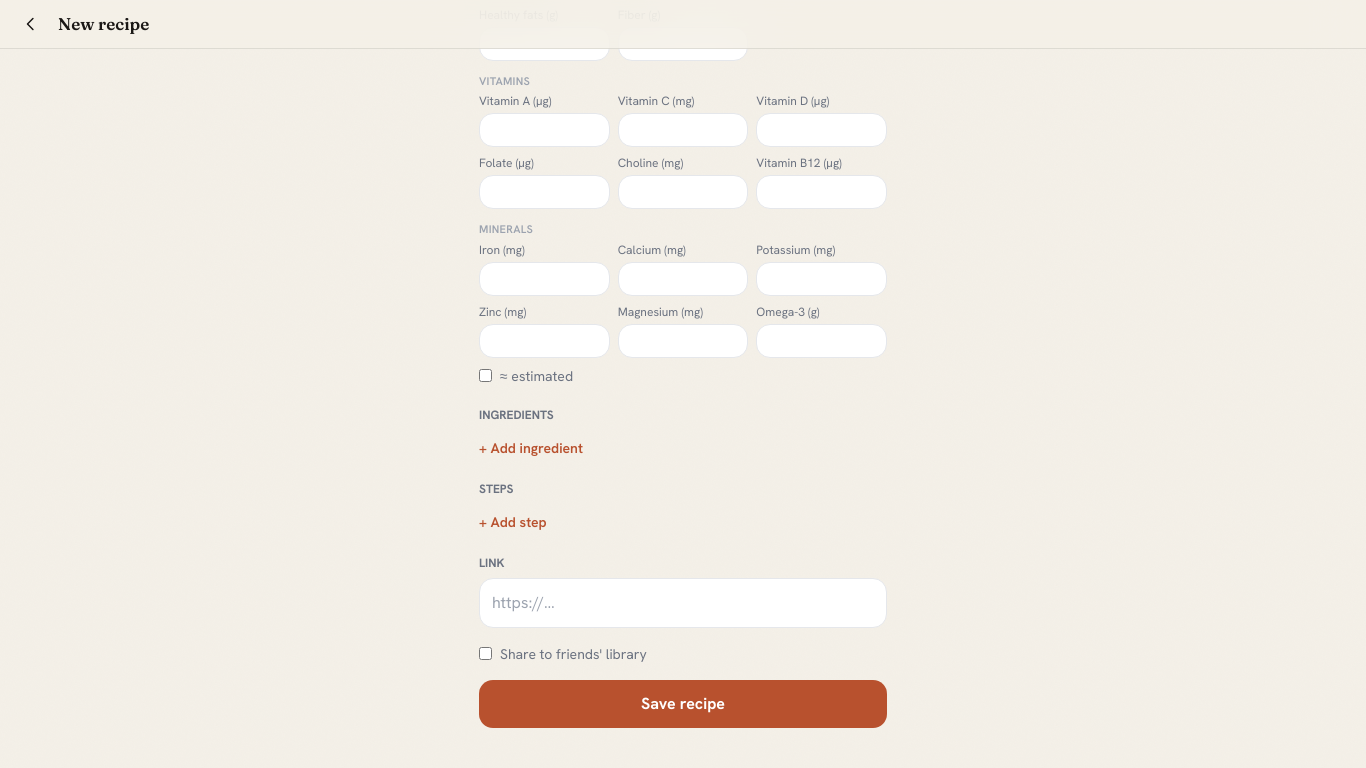
it: RecipeForm › shows an error when submitting with an empty name
(page scrolled)
What coordinates should you click on to do the following:
click the button "Save recipe"
I would click on:
 (683, 704)
Its box is [479,680,887,728].
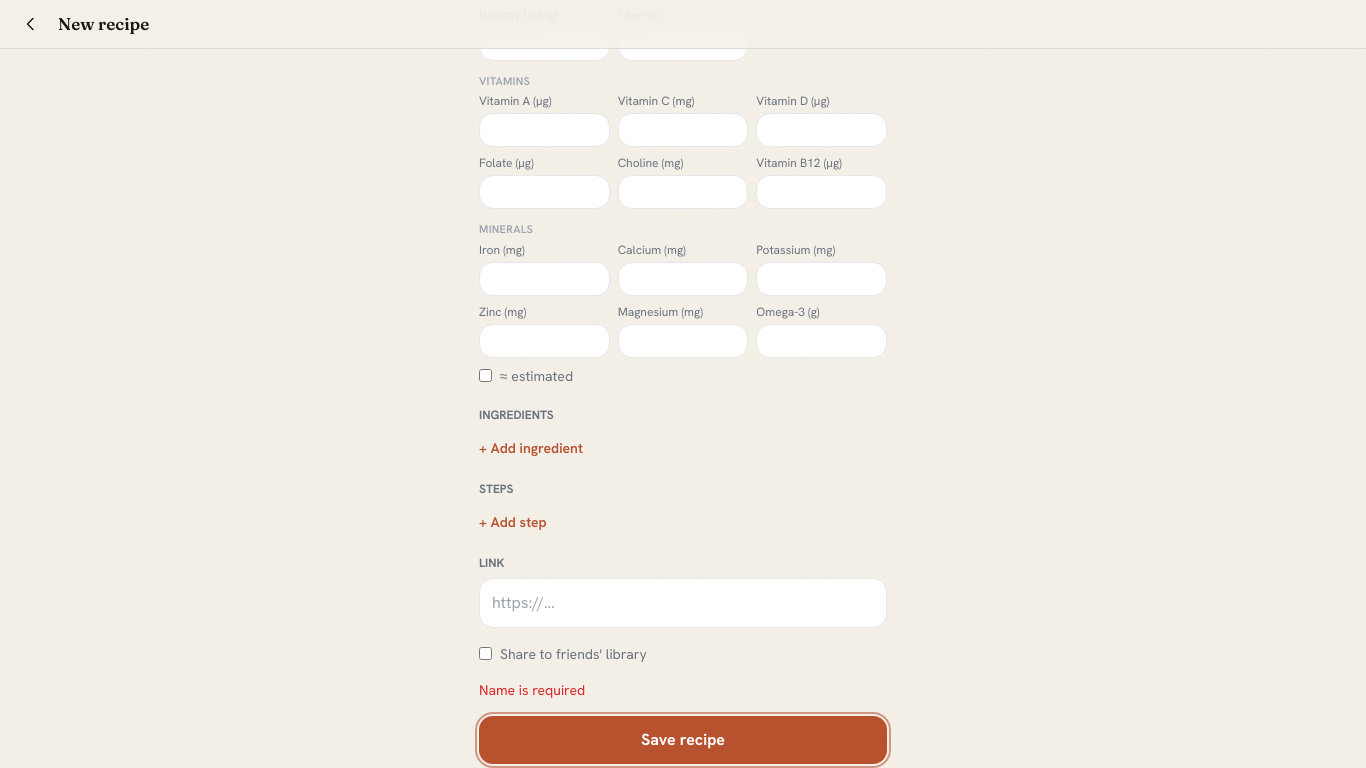
Expected: the text "Name is required" is shown, [479,681,585,699]
